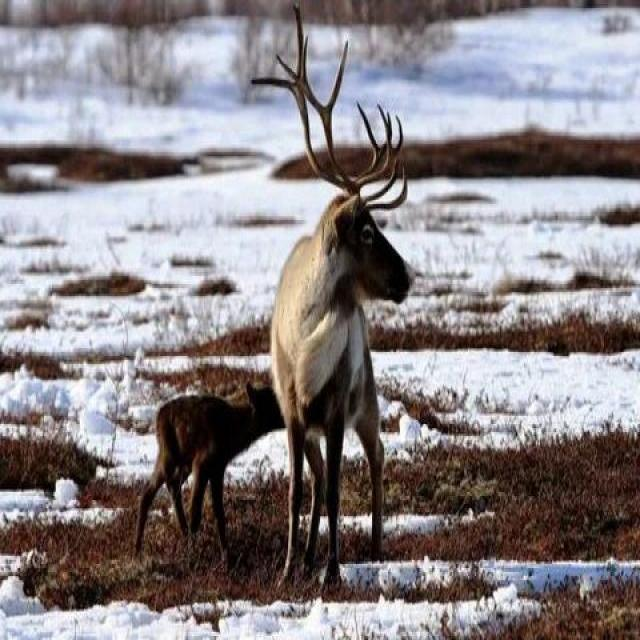deer: (214, 40, 451, 551)
